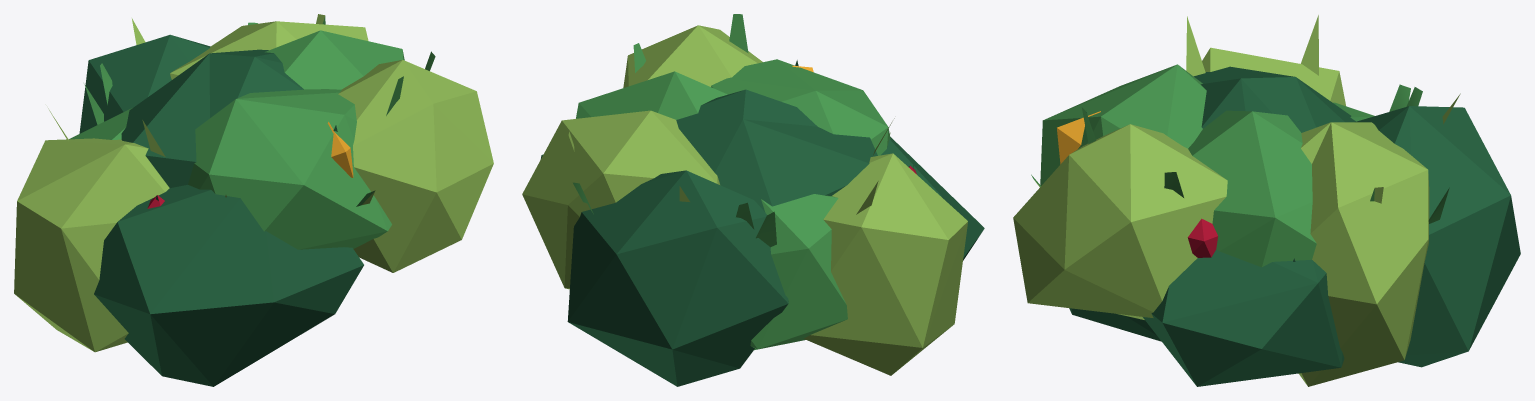
File: plant_berry_bush_lod2.glb
3 renders of one model, left to right at view 1: azimuth 30°, elevation 25°; view 2: azimuth 150°, elevation 25°; view 3: azimuth 270°, elevation 25°, orthographic. The views are drawn at different scales.
Visible parts, largest first — view 1: Bush leaf mass.001; view 2: Bush leaf mass.001; view 3: Bush leaf mass.001.
Boxes of the visible parts, x1,y1,x2,y2 form: Bush leaf mass.001: (14,14,493,386); Bush leaf mass.001: (522,14,984,386); Bush leaf mass.001: (1013,15,1520,386).
Size of the model in its own units: 1.85 by 1.11 by 1.63.
